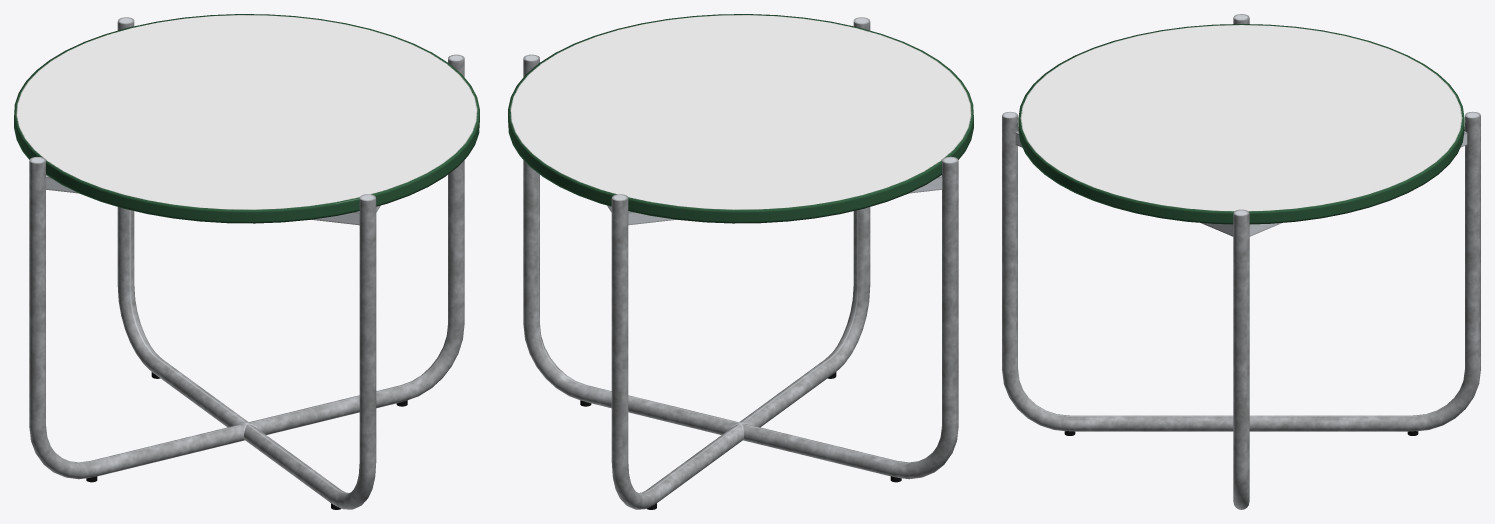
File: Barcelona_TableRound.fbx
3 views of the same model, side by side, from view 1: azimuth 30°, elevation 25°; view 2: azimuth 150°, elevation 25°; view 3: azimuth 270°, elevation 25° (orthographic). The views are drawn at different scales.
Parts seen in each view (by area): view 1: Barcelona_TableRound, Rectangle001; view 2: Barcelona_TableRound, Rectangle001; view 3: Barcelona_TableRound, Rectangle001.
Part boxes in pixels (<box>): Barcelona_TableRound: <box>14,14,479,223</box>; Rectangle001: <box>29,17,464,509</box>; Barcelona_TableRound: <box>508,14,973,223</box>; Rectangle001: <box>523,17,958,509</box>; Barcelona_TableRound: <box>1018,24,1464,224</box>; Rectangle001: <box>1002,14,1480,509</box>.
Size of the model in its own units: 71.5 by 52.5 by 71.5.
Materials: 2 (2 with a texture image).
